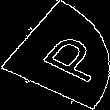P_NW: (12, 25, 98, 85)
